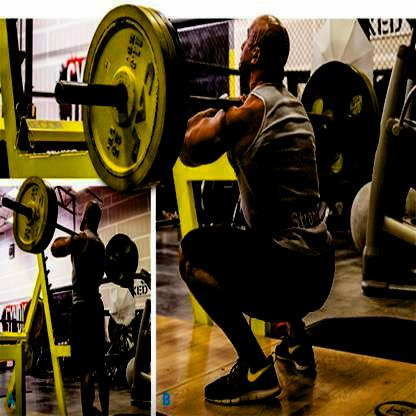Barbell: (54, 78, 65, 106), (2, 196, 9, 211)
